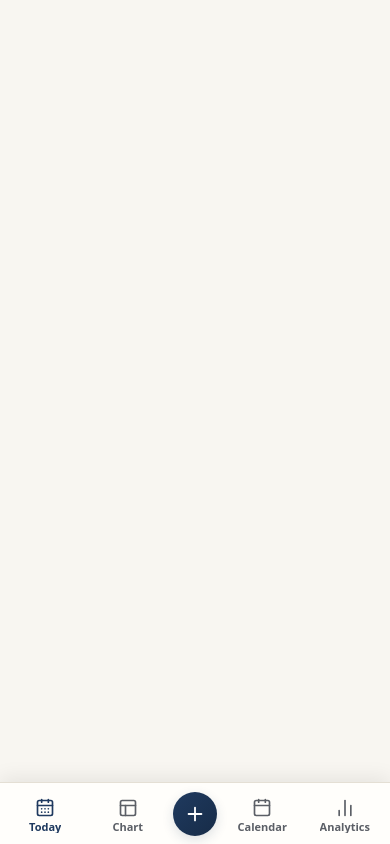
MobileNav Component (Phone Navigation) › opens the saved observation of today from the add button
Click the button named "Log" at x=195, y=814, box x1=173 y1=792 x2=217 y2=836
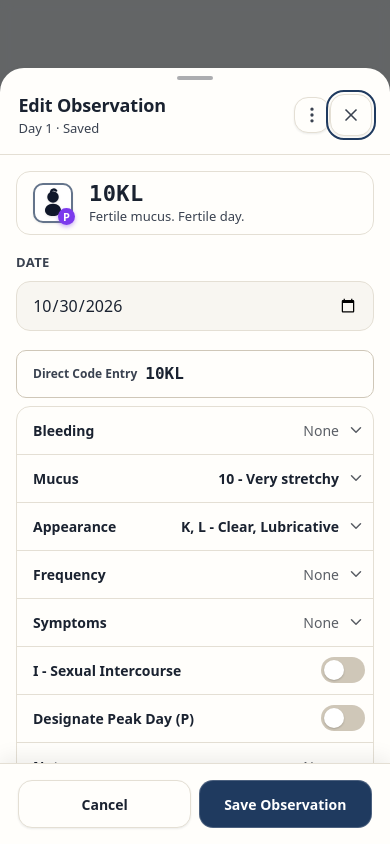
Now the field labelled "Direct Code Entry" holds "10KL", box x1=145 y1=352 x2=369 y2=396
